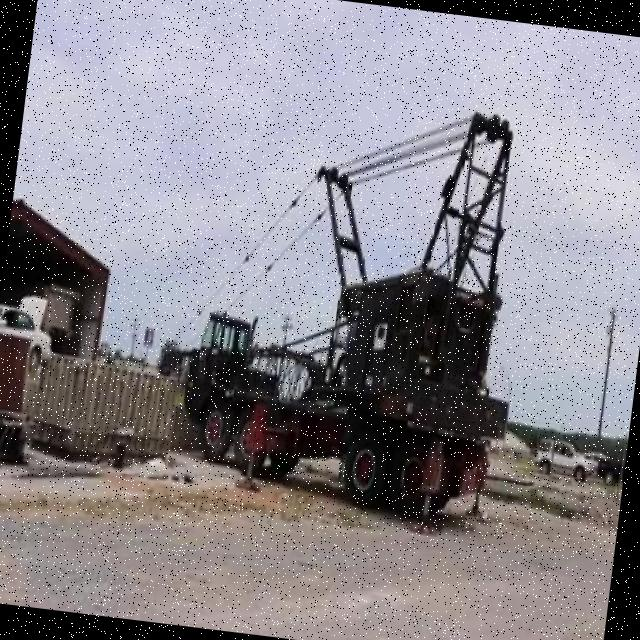Mobile Crane: (168, 81, 536, 528)
